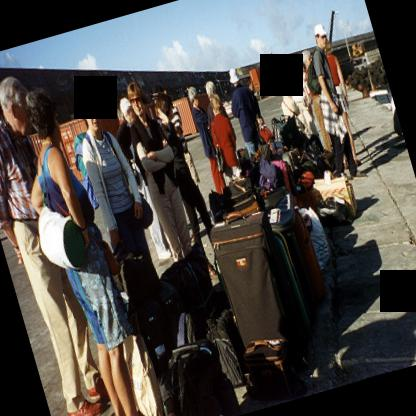backpack: (164, 347, 222, 416), (202, 303, 245, 386), (74, 131, 100, 210), (175, 310, 195, 346), (307, 57, 321, 95)
handbag: (39, 100, 306, 251), (37, 151, 85, 270), (103, 131, 153, 228), (259, 156, 285, 188), (103, 240, 120, 278)
suitcase: (209, 211, 308, 360), (272, 210, 325, 333), (137, 279, 183, 369), (245, 334, 301, 400), (312, 170, 358, 217), (223, 180, 260, 216), (274, 120, 290, 151)
